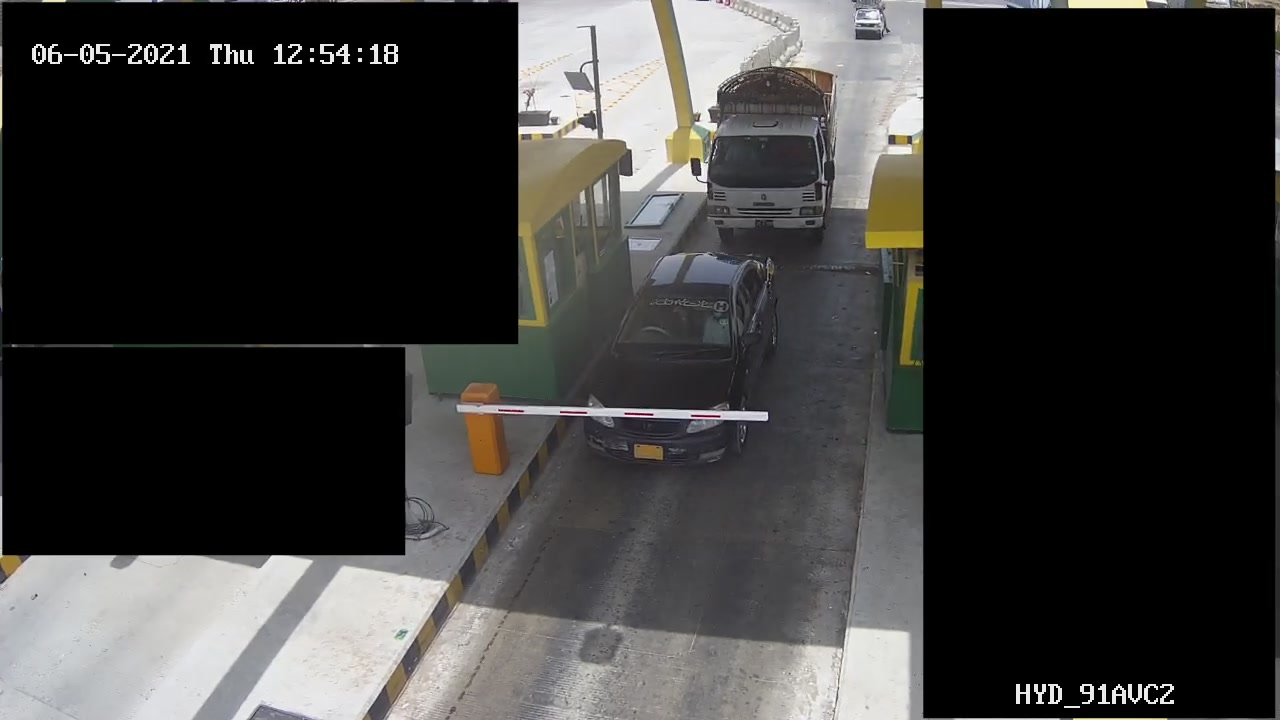F1: (585, 244, 782, 465)
F3: (693, 55, 843, 246)
